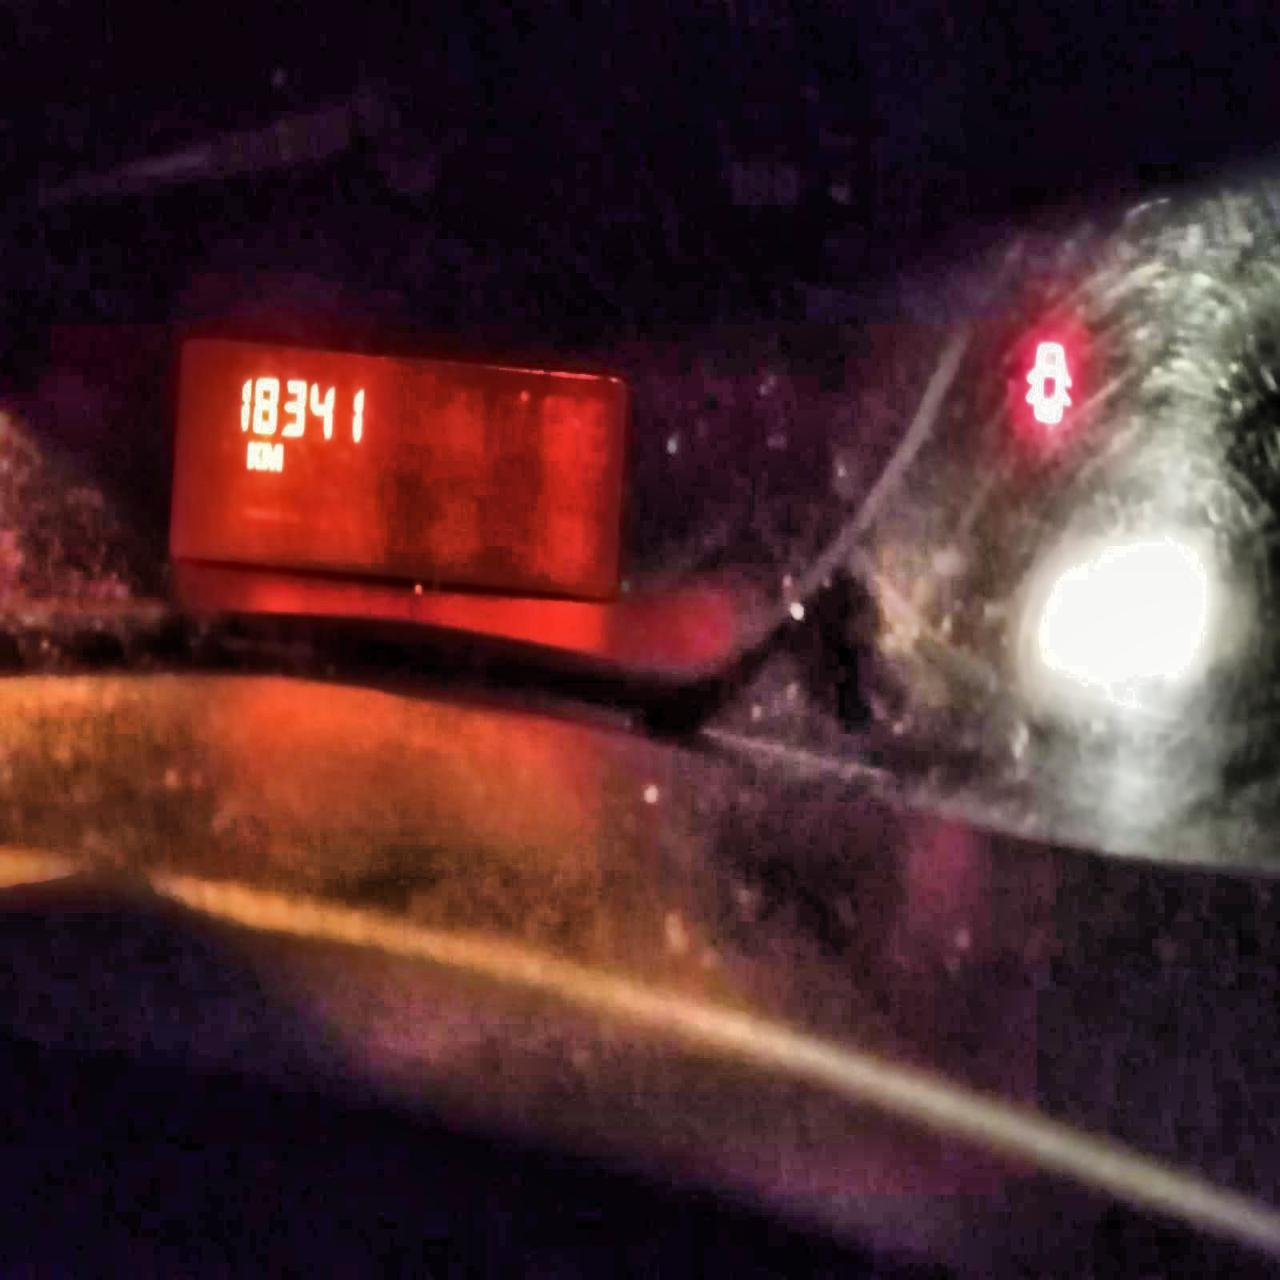1: (350, 387, 363, 444), (239, 376, 251, 430)
3: (279, 377, 307, 437)
4: (308, 381, 335, 441)
8: (251, 376, 279, 435)
X: (261, 442, 284, 471), (245, 441, 261, 470)
odometer: (164, 333, 629, 608)
